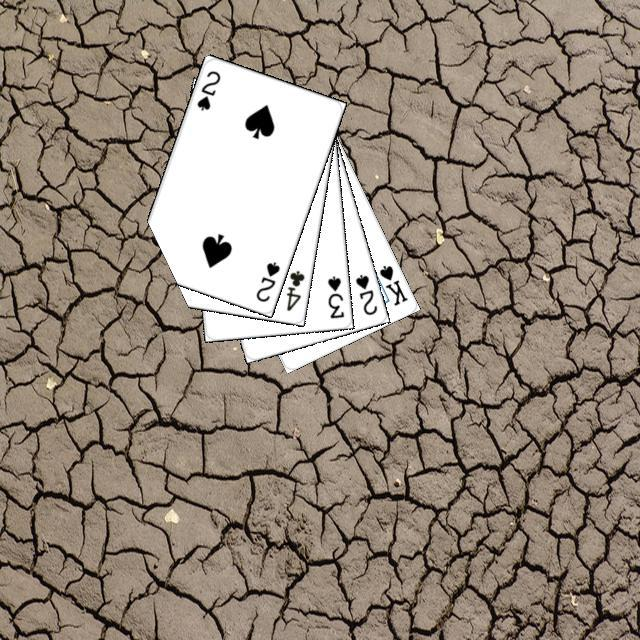2s: (251, 257, 282, 304), (350, 269, 379, 317), (192, 66, 222, 112)
3s: (323, 271, 346, 320)
4c: (282, 265, 306, 313)
Ks: (374, 260, 409, 308)
